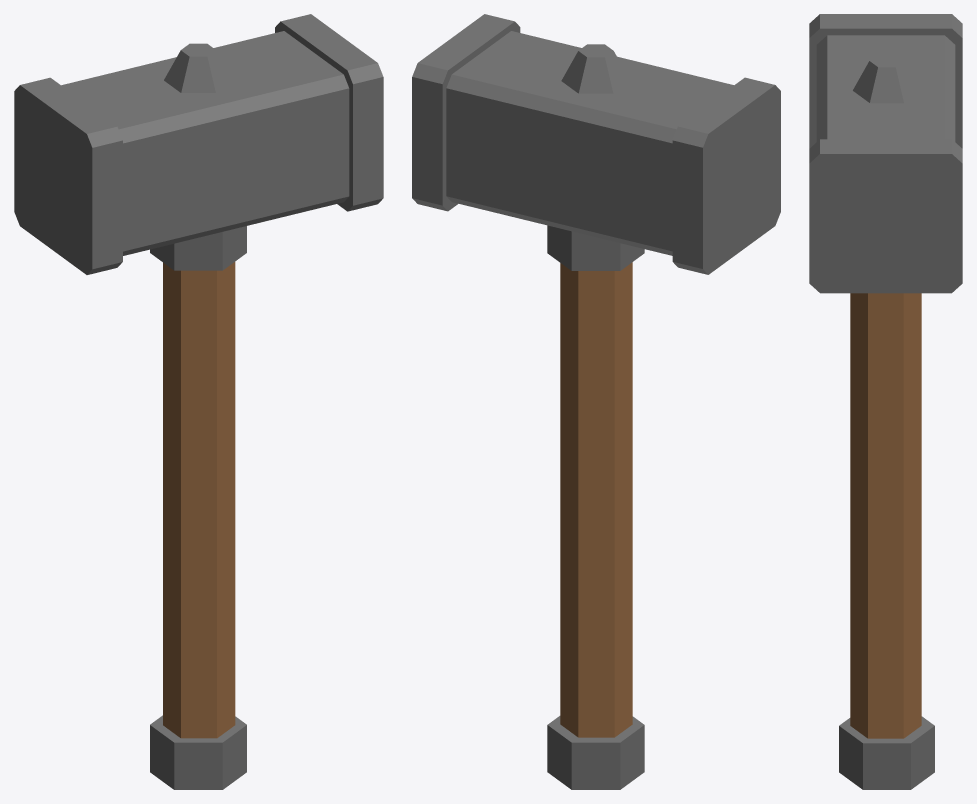
The model's file is hammer.fbx.
3 views of the same model, side by side, from view 1: azimuth 30°, elevation 25°; view 2: azimuth 150°, elevation 25°; view 3: azimuth 270°, elevation 25° (orthographic).
Visible parts, largest first — view 1: Hammer; view 2: Hammer; view 3: Hammer.
Part boxes in pixels (bbox=[...]): Hammer: bbox=[14, 14, 383, 789]; Hammer: bbox=[412, 14, 780, 789]; Hammer: bbox=[809, 14, 962, 789].
Size of the model in its own units: 23.81 by 56.42 by 11.03.
